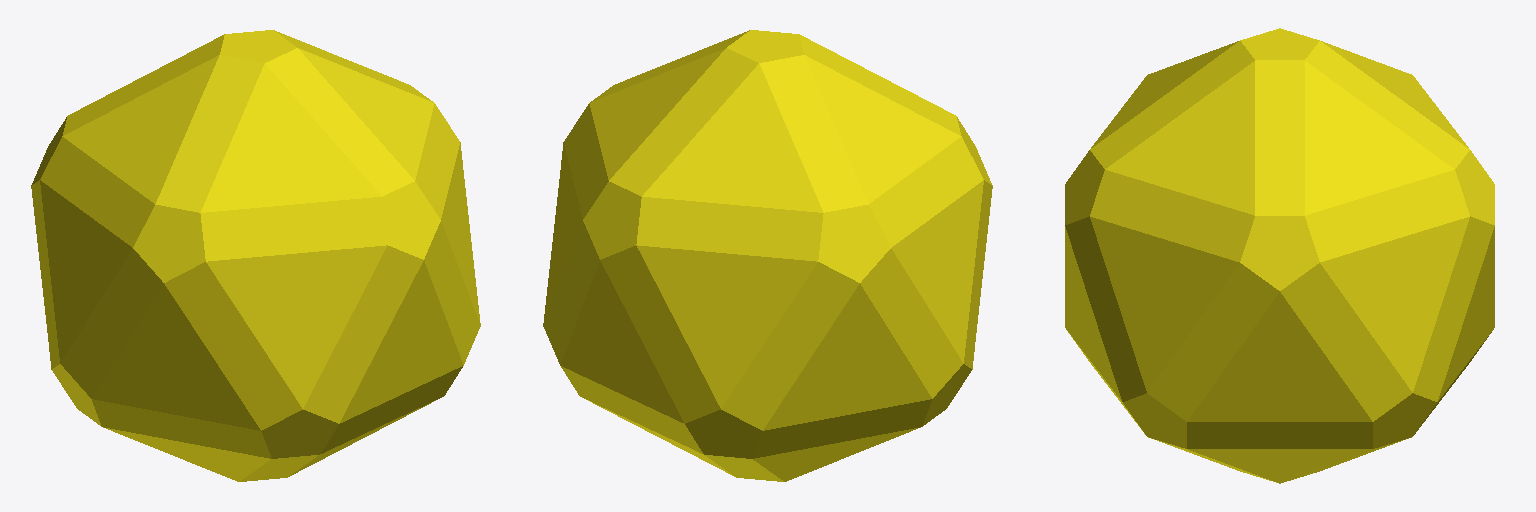
The picture shows the model from 3 angles: view 1: azimuth 30°, elevation 25°; view 2: azimuth 150°, elevation 25°; view 3: azimuth 270°, elevation 25°; orthographic projection.
Visible parts, largest first — view 1: ICO球; view 2: ICO球; view 3: ICO球.
Boxes of the visible parts, box(x1,y1,x2,y2) form: ICO球: box(31, 30, 480, 481); ICO球: box(543, 30, 992, 481); ICO球: box(1065, 28, 1494, 483).
Size of the model in its own units: 1.71 by 1.76 by 1.63.
Materials: 1 (1 with a texture image).